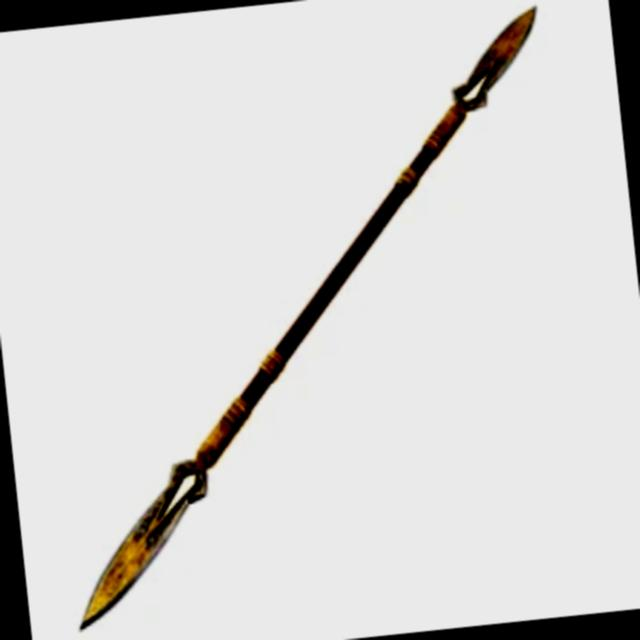spear: (0, 0, 633, 640)
